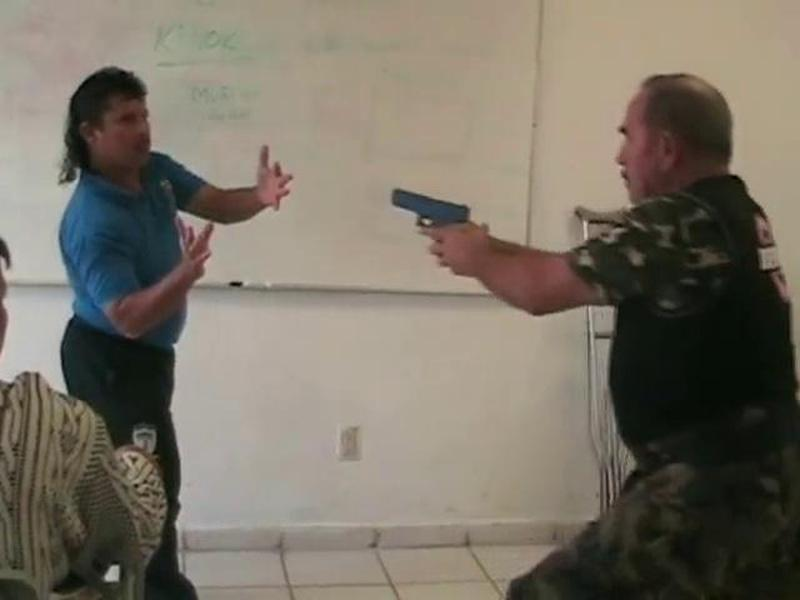Pistola: (383, 183, 475, 252)
